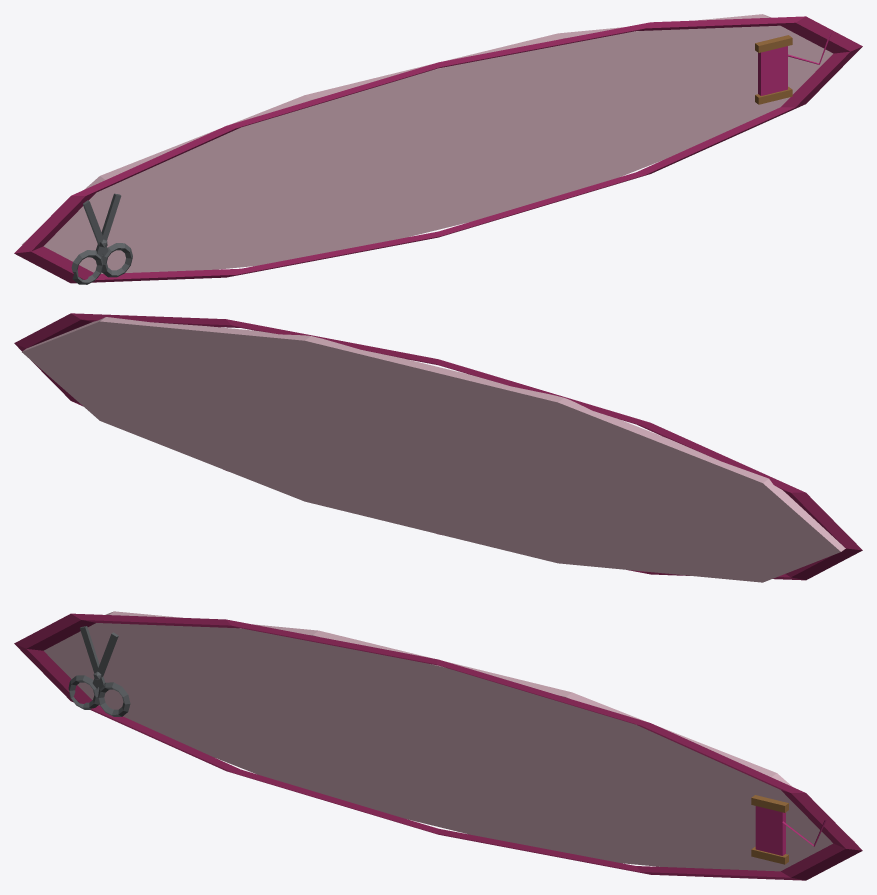
Rendered from bang_tiem_may_hong_nhung_40.glb.
3 renders of one model, top to bottom at view 1: azimuth 30°, elevation 25°; view 2: azimuth 150°, elevation 25°; view 3: azimuth 330°, elevation 25°, orthographic.
Parts seen in each view (by area): view 1: bang_tiem_may_hong_nhung_40; view 2: bang_tiem_may_hong_nhung_40; view 3: bang_tiem_may_hong_nhung_40.
Boxes of the visible parts, x1,y1,x2,y2 form: bang_tiem_may_hong_nhung_40: [14, 14, 862, 284]; bang_tiem_may_hong_nhung_40: [14, 313, 862, 582]; bang_tiem_may_hong_nhung_40: [14, 611, 862, 880].
Size of the model in its own units: 3.78 by 0.7459 by 0.0925.
